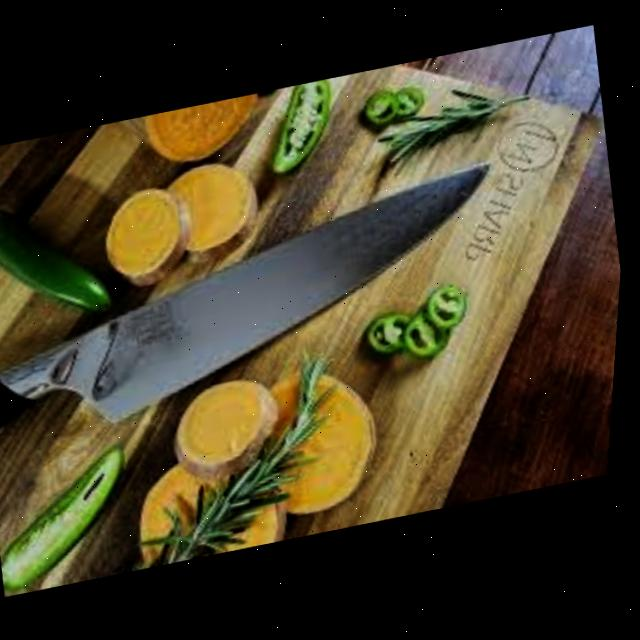Knife: (0, 162, 525, 449)
